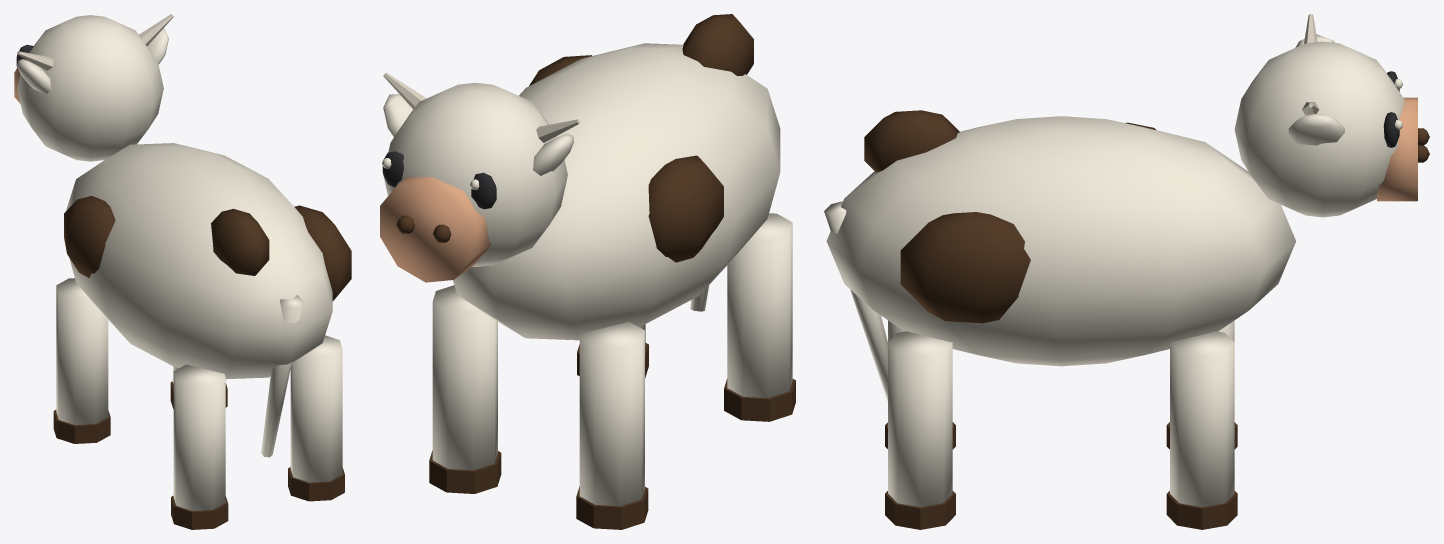
File: cow.fbx
3 views of the same model, side by side, from view 1: azimuth 30°, elevation 25°; view 2: azimuth 150°, elevation 25°; view 3: azimuth 270°, elevation 25° (orthographic). The views are drawn at different scales.
Visible parts, largest first — view 1: Body, Head, LegL, LegR, ArmL; view 2: Body, Head, ArmL, ArmR, LegL; view 3: Body, Head, ArmR, LegR.
Part boxes in pixels (left/top/right/bottom): Body: left=64, top=143, right=351, bottom=457; Head: left=14, top=14, right=173, bottom=161; LegL: left=171, top=364, right=228, bottom=529; LegR: left=288, top=335, right=344, bottom=501; ArmL: left=53, top=278, right=110, bottom=443; Body: left=453, top=14, right=780, bottom=340; Head: left=380, top=72, right=580, bottom=282; ArmL: left=576, top=322, right=648, bottom=529; ArmR: left=429, top=285, right=501, bottom=493; LegL: left=724, top=213, right=795, bottom=421; Body: left=824, top=110, right=1295, bottom=401; Head: left=1234, top=14, right=1429, bottom=217; ArmR: left=1166, top=331, right=1237, bottom=529; LegR: left=885, top=331, right=955, bottom=529.
Size of the model in its own units: 0.4835 by 1.03 by 0.81.
